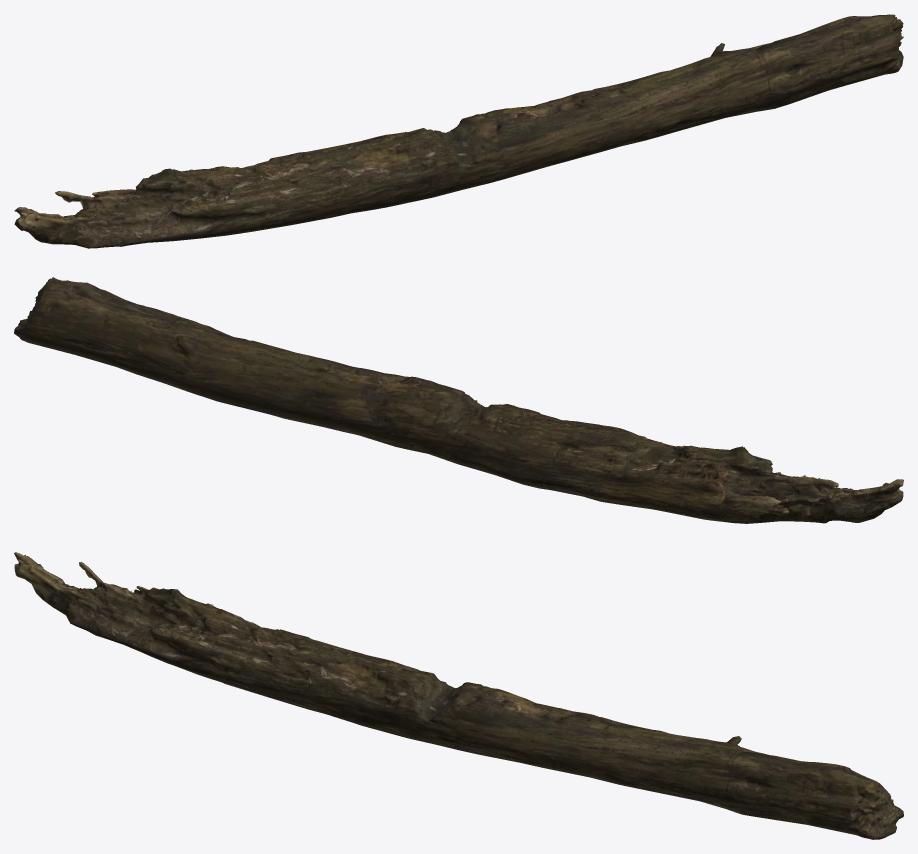
The model's file is dead_tree_trunk.glb.
3 renders of one model, top to bottom at view 1: azimuth 30°, elevation 25°; view 2: azimuth 150°, elevation 25°; view 3: azimuth 330°, elevation 25°, orthographic.
Visible parts, largest first — view 1: dead_tree_trunk; view 2: dead_tree_trunk; view 3: dead_tree_trunk.
Boxes of the visible parts, bbox=[...] form: dead_tree_trunk: bbox=[14, 14, 903, 248]; dead_tree_trunk: bbox=[14, 277, 903, 523]; dead_tree_trunk: bbox=[14, 552, 903, 839].
Size of the model in its own units: 3.05 by 0.2905 by 0.2775.
1 material, 1 textured.
